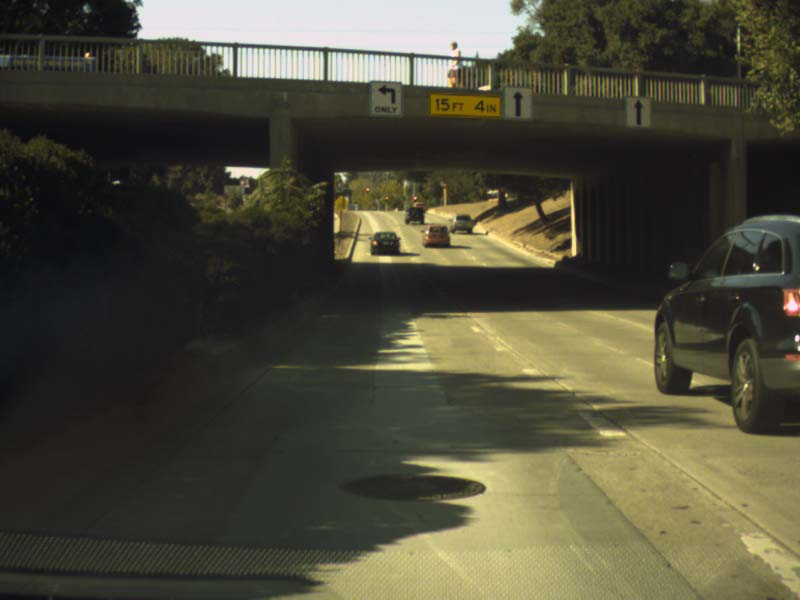Red: (413, 196, 417, 201), (385, 196, 389, 201), (366, 187, 369, 193)
